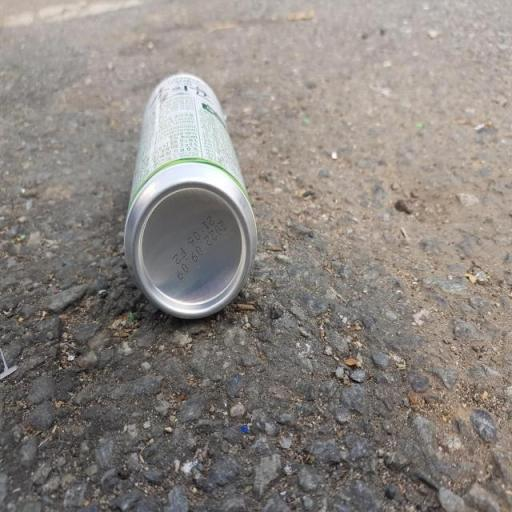metal: (116, 59, 262, 338)
